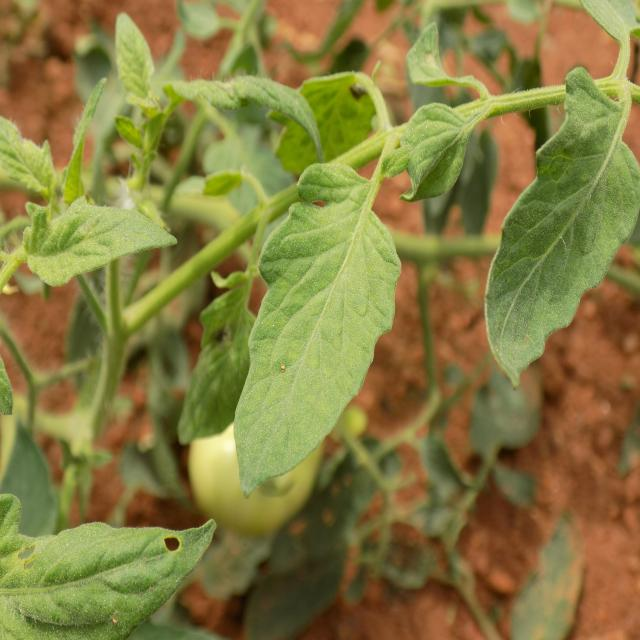tomato_healthy: (235, 167, 399, 484), (483, 63, 640, 388), (1, 495, 216, 638), (20, 199, 178, 285)
